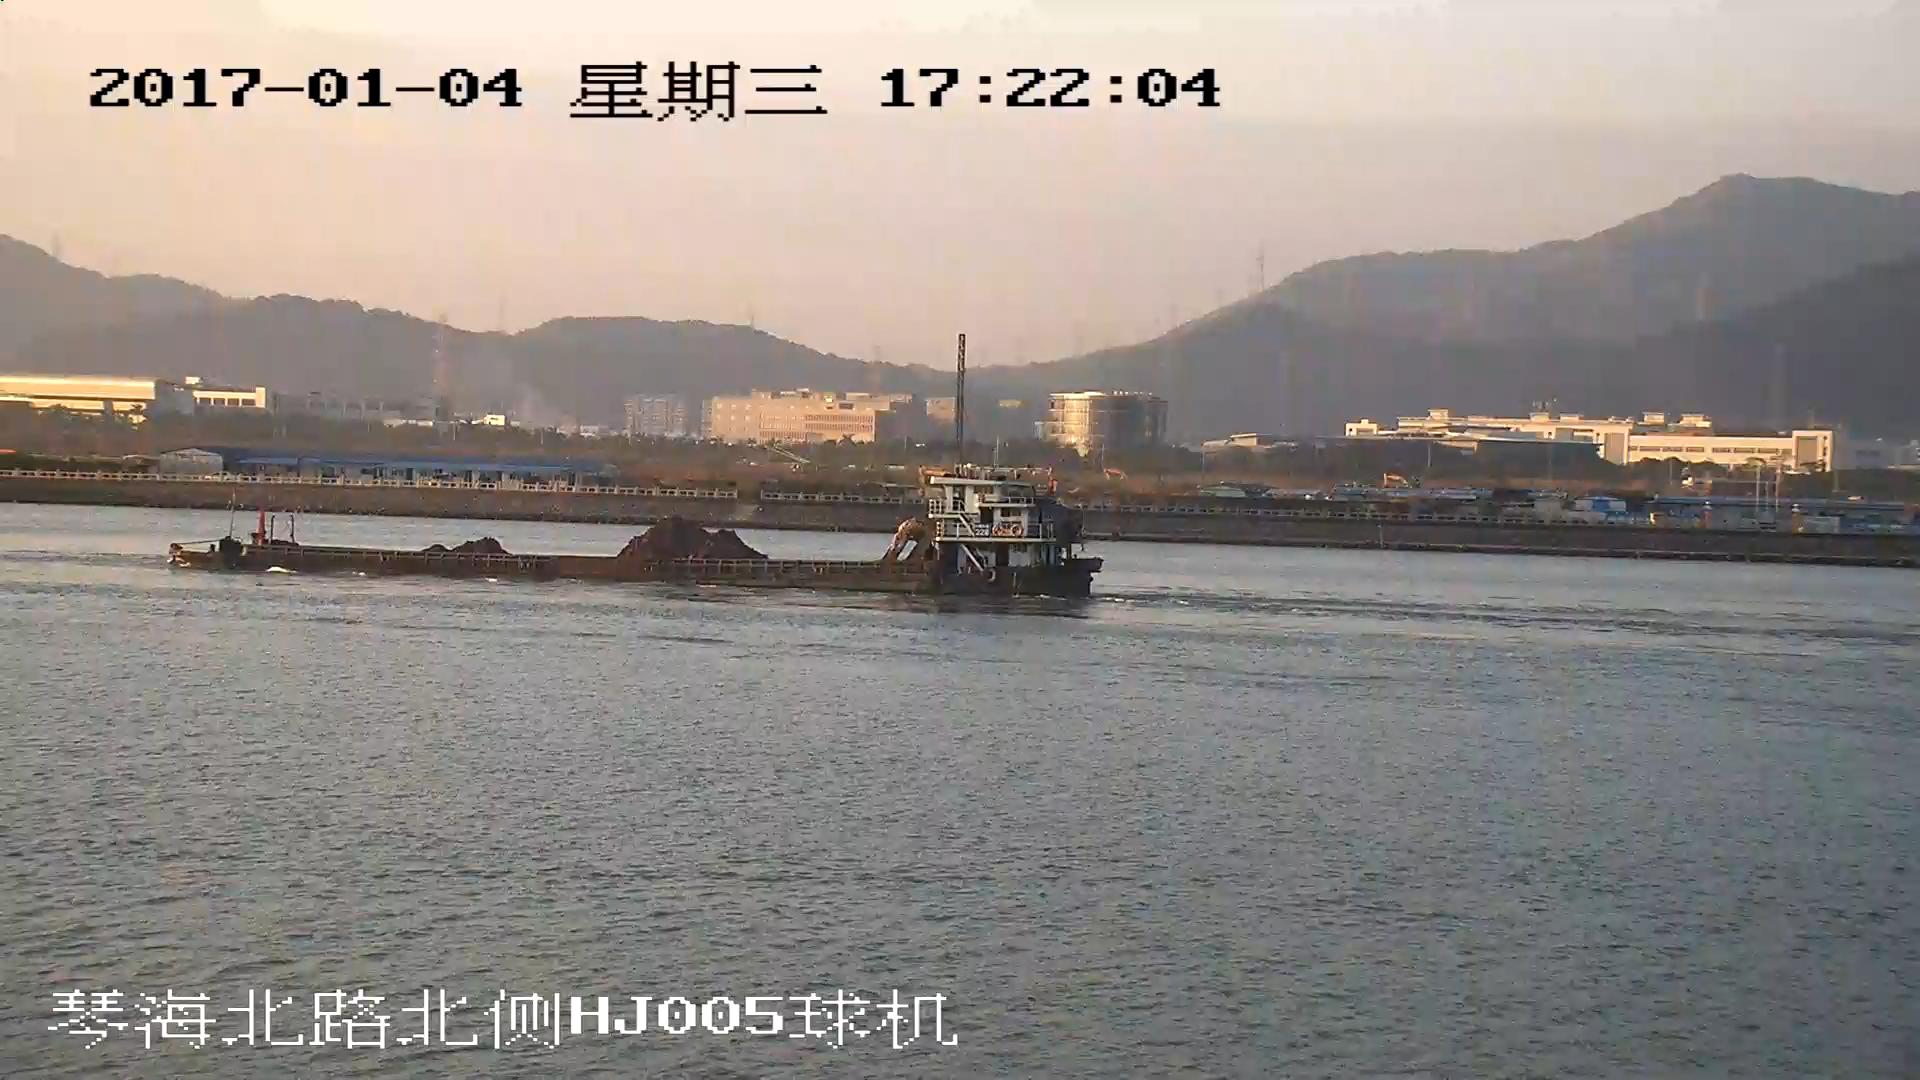ore carrier: (169, 472, 1100, 601)
